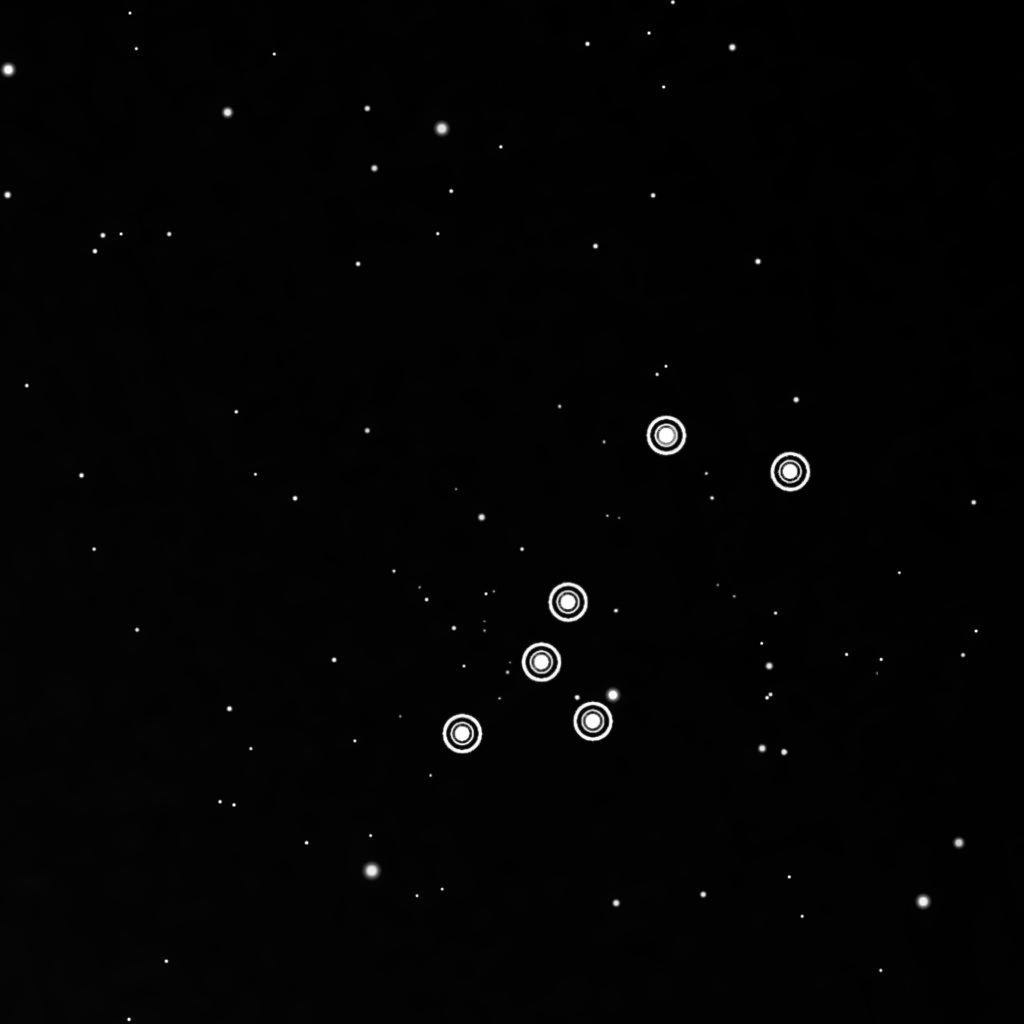canis_major: (428, 407, 821, 764)
